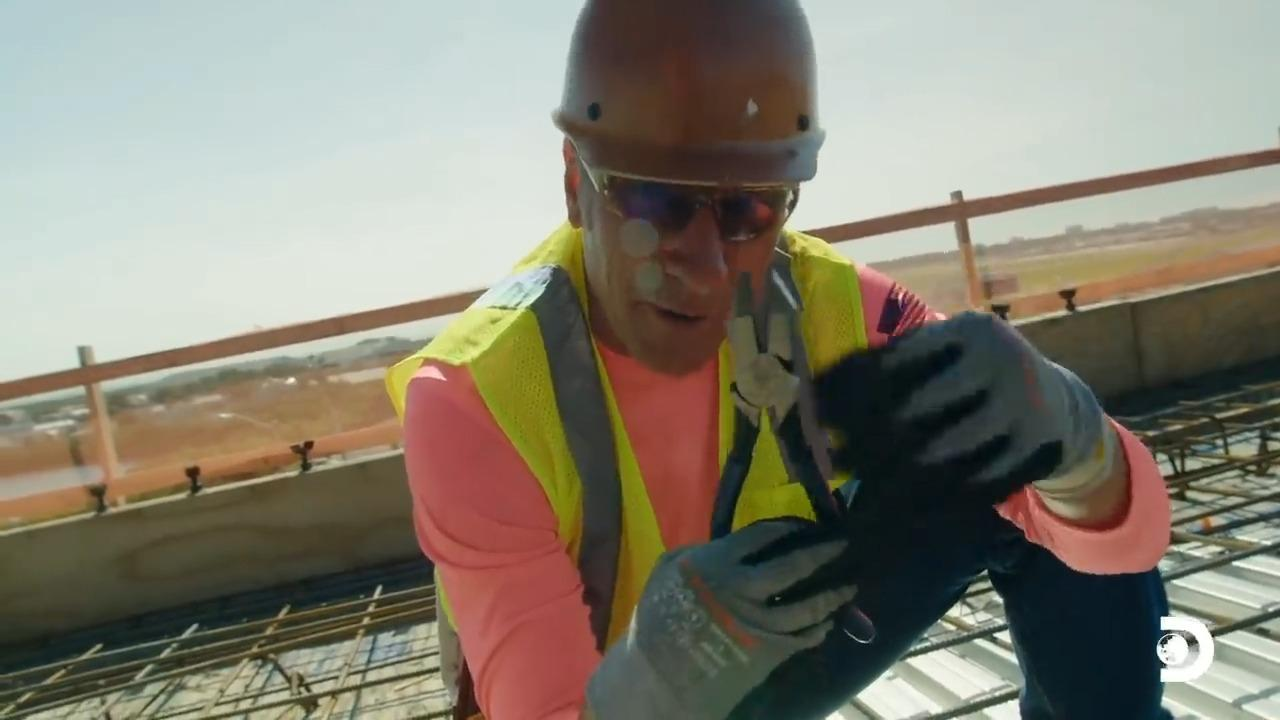Gloves: (868, 309, 1070, 465), (661, 529, 850, 676)
Helmet: (550, 0, 825, 191)
Person: (384, 0, 1175, 718)
Safety Vest: (488, 276, 865, 597)
